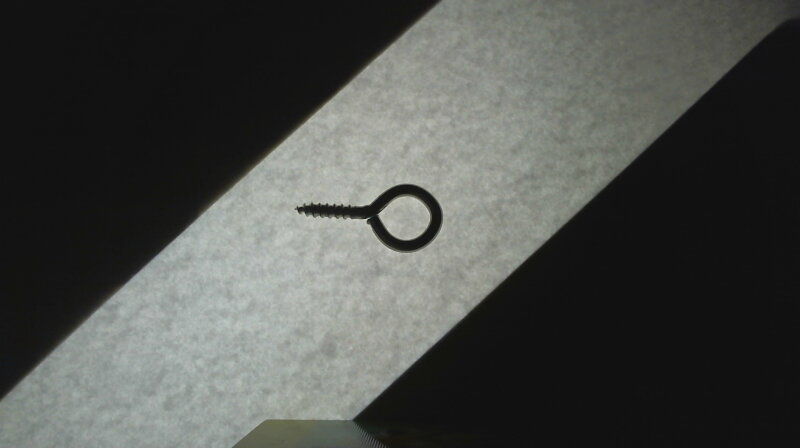O001: (291, 180, 446, 254)
